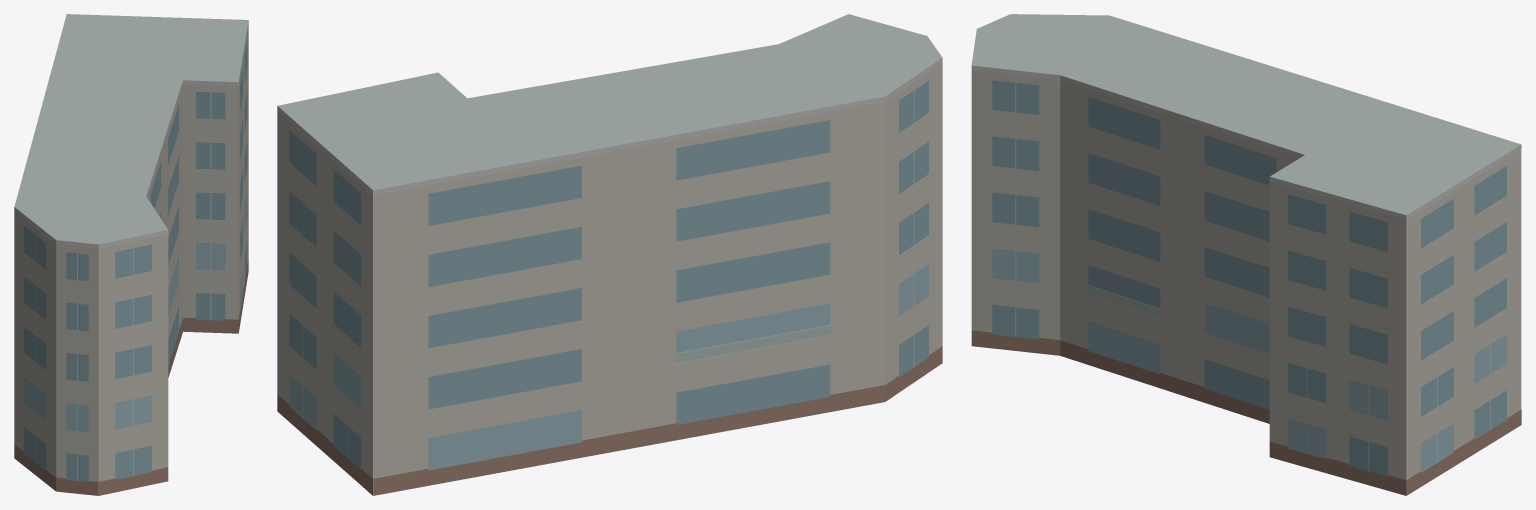
Rendered from survey-upis-32759938.glb.
3 renders of one model, left to right at view 1: azimuth 30°, elevation 25°; view 2: azimuth 150°, elevation 25°; view 3: azimuth 270°, elevation 25°, orthographic. The views are drawn at different scales.
Visible parts, largest first — view 1: survey-upis-32759938.tmp; view 2: survey-upis-32759938.tmp; view 3: survey-upis-32759938.tmp.
Boxes of the visible parts, x1=… form: survey-upis-32759938.tmp: x1=14, y1=14, x2=248, y2=495; survey-upis-32759938.tmp: x1=277, y1=14, x2=942, y2=495; survey-upis-32759938.tmp: x1=971, y1=14, x2=1521, y2=495.
Size of the model in its own units: 21.4 by 13.9 by 24.7.
